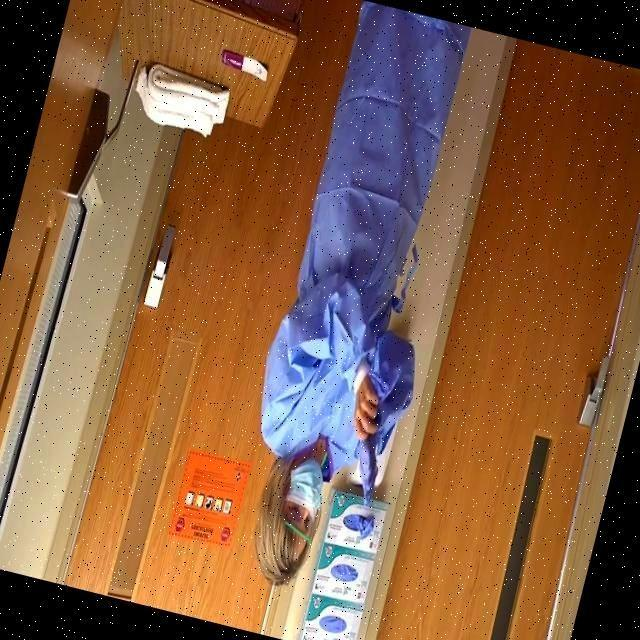no_apron: (349, 371, 391, 441)
